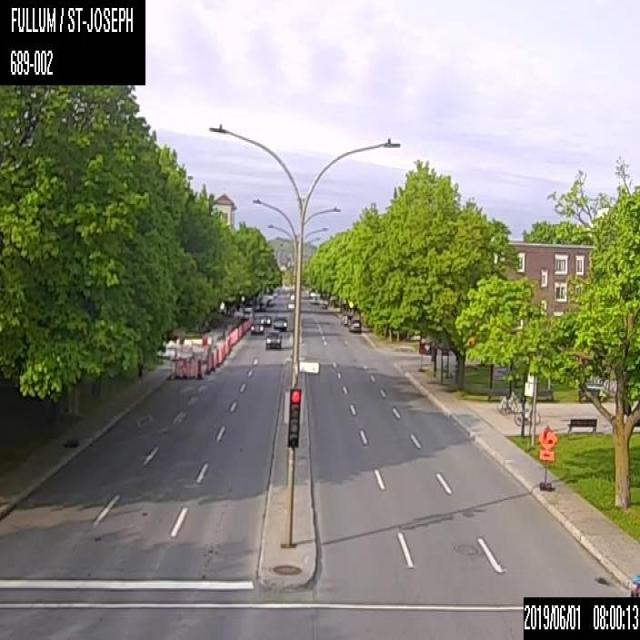construction: (536, 421, 558, 491), (195, 358, 203, 379), (203, 352, 210, 373), (209, 351, 215, 371), (173, 358, 179, 378), (188, 357, 194, 376), (181, 358, 187, 377), (215, 348, 220, 364)
pedestrian: (136, 353, 146, 384)
vehicle: (264, 329, 281, 348), (250, 318, 264, 334), (273, 315, 287, 330), (348, 317, 361, 332), (340, 312, 352, 326), (260, 314, 271, 326), (309, 292, 319, 304), (202, 337, 206, 344)
